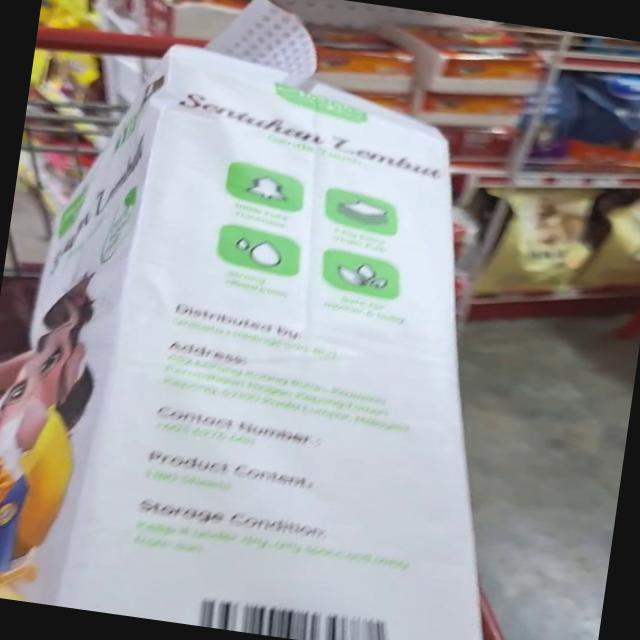Tisu: (0, 269, 566, 640), (64, 5, 538, 398)
